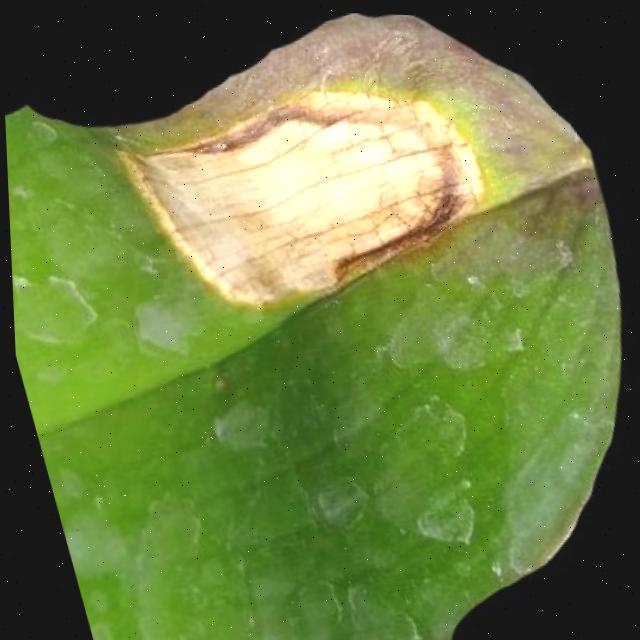mite: (344, 384, 494, 558), (10, 258, 103, 357), (117, 286, 202, 367), (53, 500, 130, 583), (399, 478, 482, 552), (199, 391, 278, 460), (296, 467, 371, 535), (2, 60, 44, 123), (82, 618, 108, 640)
spots: (3, 10, 640, 640)
sunburn: (106, 51, 501, 333)
